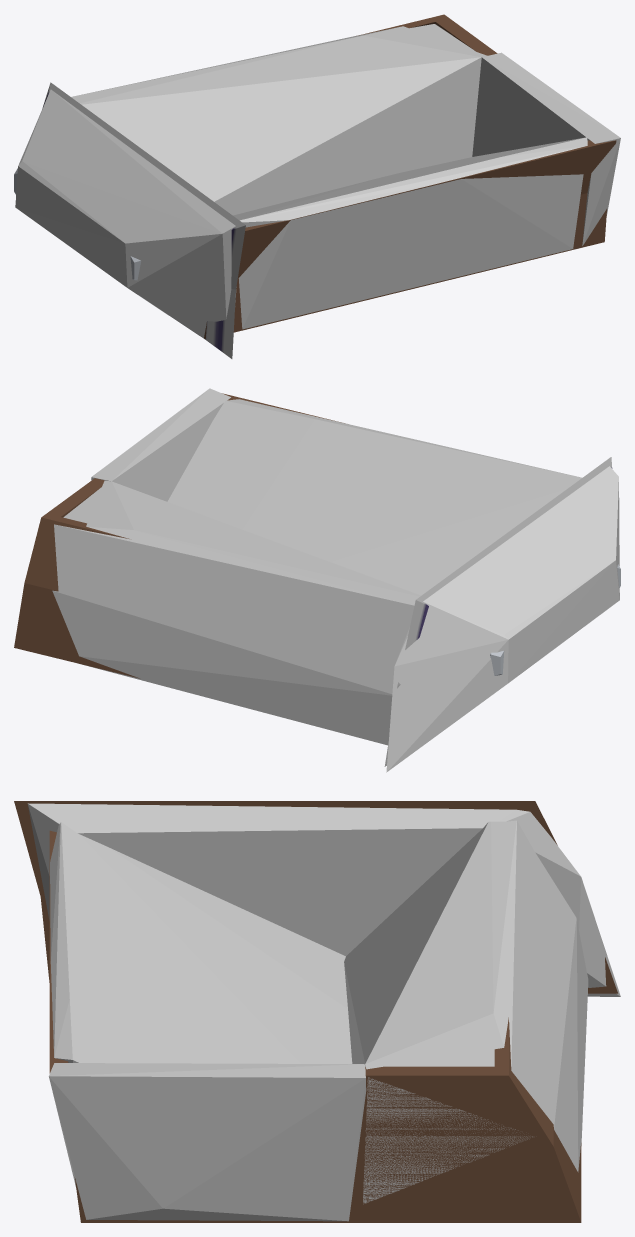
File: SM_Prop_Desk_01_Drawer_l_03.fbx
3 views of the same model, one above another, from view 1: azimuth 30°, elevation 25°; view 2: azimuth 150°, elevation 25°; view 3: azimuth 270°, elevation 25° (orthographic). The views are drawn at different scales.
Parts seen in each view (by area): view 1: SM_Prop_Desk_01_Drawer_l_03_ConvexHulls, SM_Prop_Desk_01_Drawer_l_03; view 2: SM_Prop_Desk_01_Drawer_l_03_ConvexHulls, SM_Prop_Desk_01_Drawer_l_03; view 3: SM_Prop_Desk_01_Drawer_l_03_ConvexHulls, SM_Prop_Desk_01_Drawer_l_03.
Boxes of the visible parts, box(x1,y1,x2,y2) form: SM_Prop_Desk_01_Drawer_l_03_ConvexHulls: box(15, 24, 620, 340); SM_Prop_Desk_01_Drawer_l_03: box(14, 14, 616, 358); SM_Prop_Desk_01_Drawer_l_03_ConvexHulls: box(52, 388, 619, 772); SM_Prop_Desk_01_Drawer_l_03: box(14, 393, 620, 766); SM_Prop_Desk_01_Drawer_l_03_ConvexHulls: box(27, 803, 620, 1221); SM_Prop_Desk_01_Drawer_l_03: box(14, 801, 617, 1222).
Bounding box in the file's own units: 61.06 × 53.26 × 19.15.
2 materials, 1 textured.
